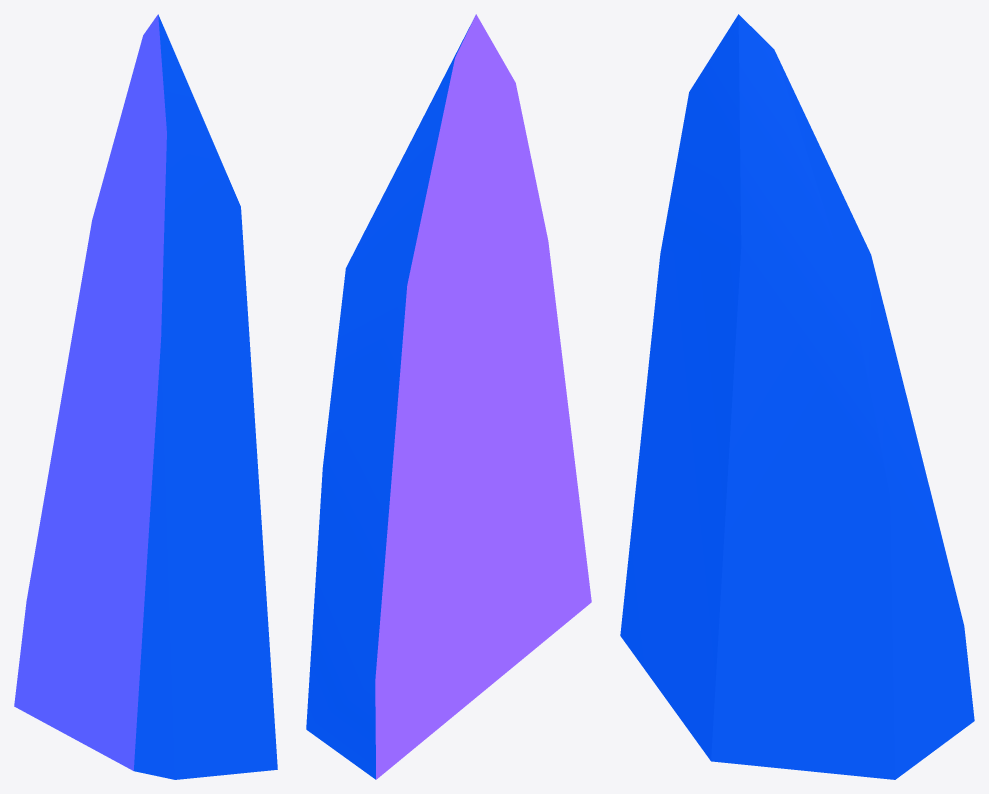
The model's file is p_mesh_voxelmaterials_voxelmineral02.fbx.
The picture shows the model from 3 angles, left to right: view 1: azimuth 30°, elevation 25°; view 2: azimuth 150°, elevation 25°; view 3: azimuth 270°, elevation 25°; orthographic projection. The views are drawn at different scales.
Parts seen in each view (by area): view 1: p_mesh_crystalshard_voxel02_lp; view 2: p_mesh_crystalshard_voxel02_lp; view 3: p_mesh_crystalshard_voxel02_lp.
Part boxes in pixels (box(x1,y1,x2,y2)): p_mesh_crystalshard_voxel02_lp: box(14, 14, 277, 779); p_mesh_crystalshard_voxel02_lp: box(306, 14, 591, 779); p_mesh_crystalshard_voxel02_lp: box(620, 14, 974, 779).
Size of the model in its own units: 0.2294 by 0.916 by 0.4102.
